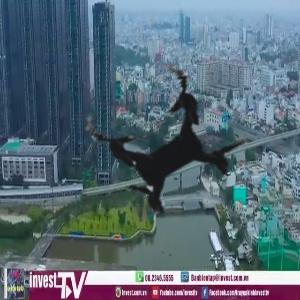drone: (39, 22, 293, 276)
